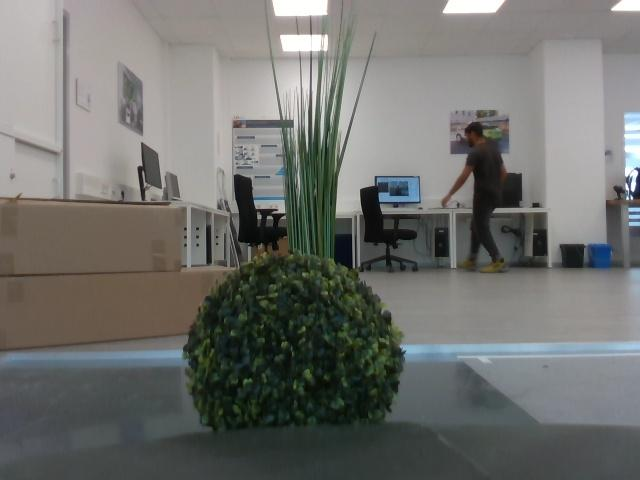Vegetation: (185, 270, 408, 430), (259, 6, 380, 257)
